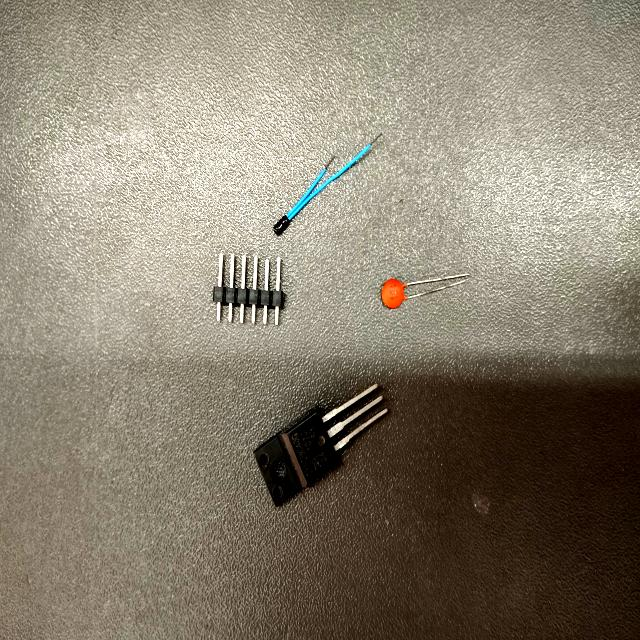capacitor: (380, 278, 416, 309)
